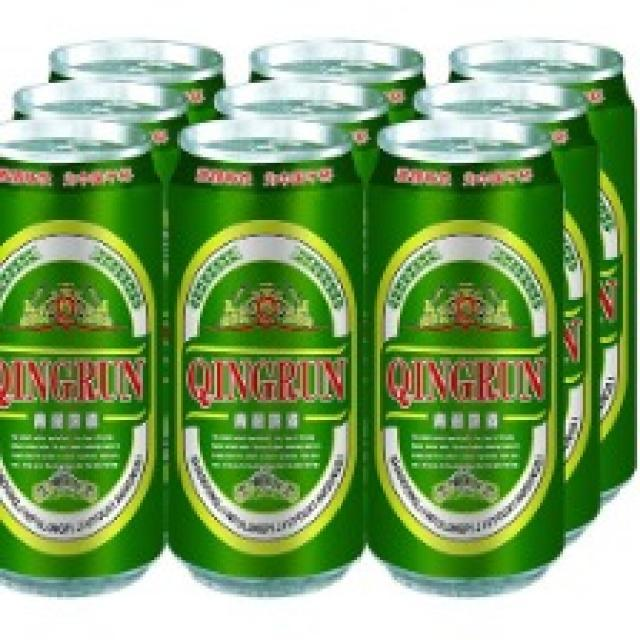metel: (162, 114, 357, 599), (369, 112, 563, 586), (1, 135, 159, 582), (454, 39, 628, 85)
